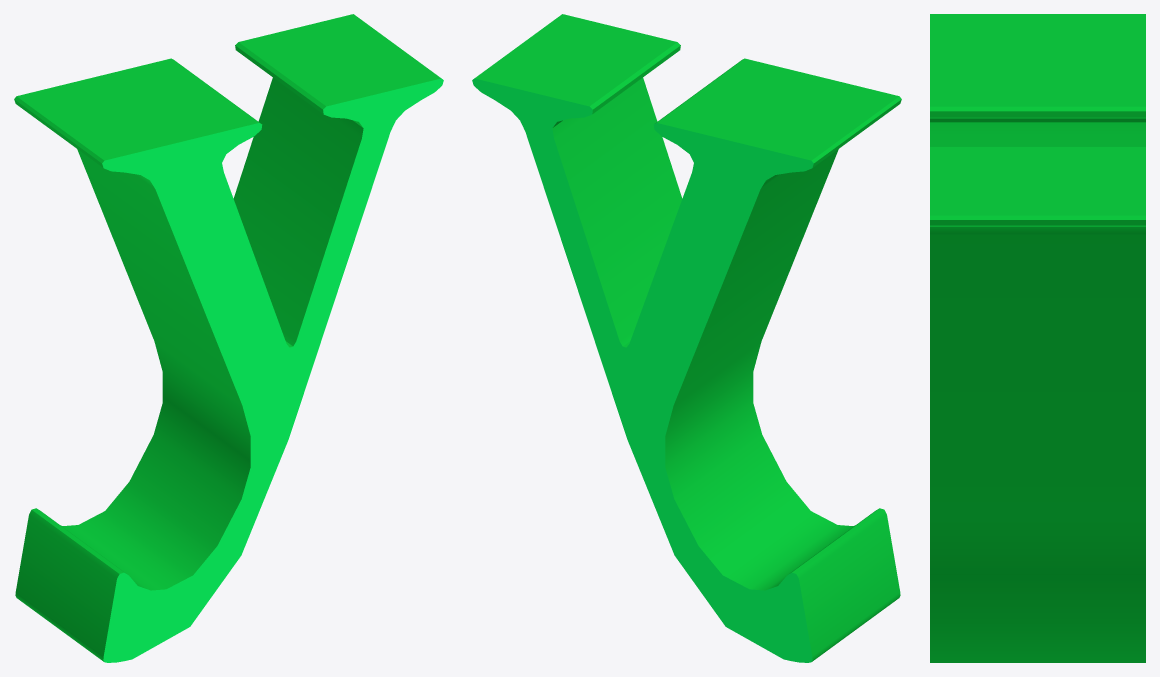
File: Y_Soul_Green.glb
The picture shows the model from 3 angles, left to right: view 1: azimuth 30°, elevation 25°; view 2: azimuth 150°, elevation 25°; view 3: azimuth 270°, elevation 25°; orthographic projection. The views are drawn at different scales.
Visible parts, largest first — view 1: y_Soul_Green; view 2: y_Soul_Green; view 3: y_Soul_Green.
Part boxes in pixels (left/top/right/bottom): y_Soul_Green: left=14, top=14, right=443, bottom=662; y_Soul_Green: left=472, top=14, right=901, bottom=662; y_Soul_Green: left=930, top=14, right=1145, bottom=662.
Size of what is drawn, in the model's own units: 0.1009 by 0.1426 by 0.045.
Materials: 2 (2 with a texture image).
